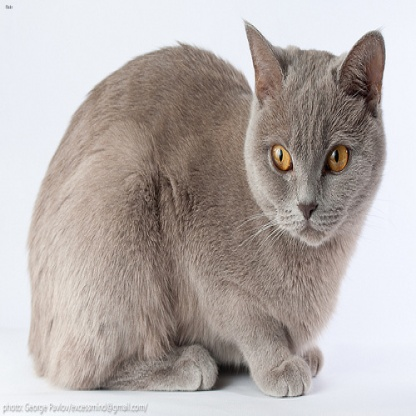british_shorthair: (25, 18, 385, 399)
